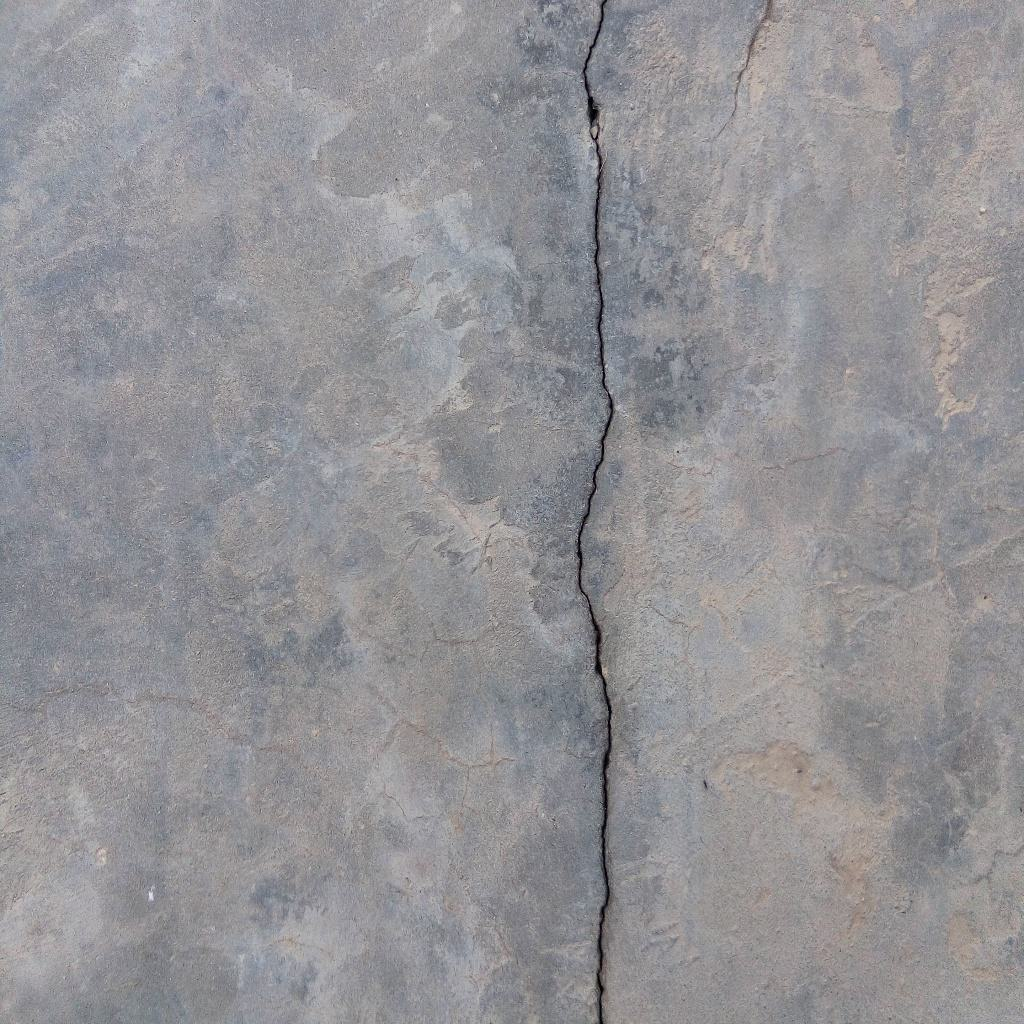Crack: (576, 1, 618, 1024)
